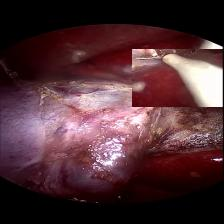Hook: (132, 48, 224, 106)
